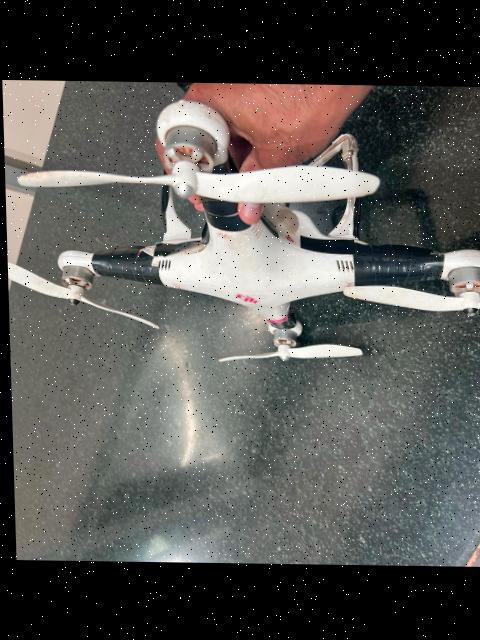drone: (2, 80, 480, 401)
